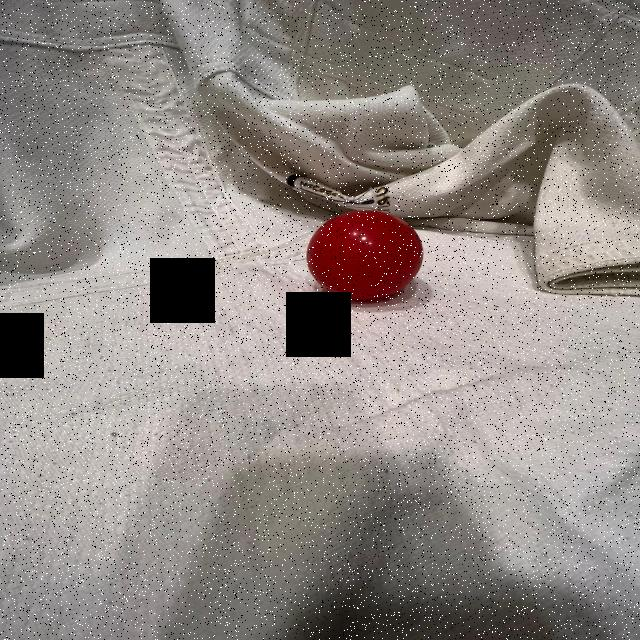ball: (304, 205, 426, 302)
